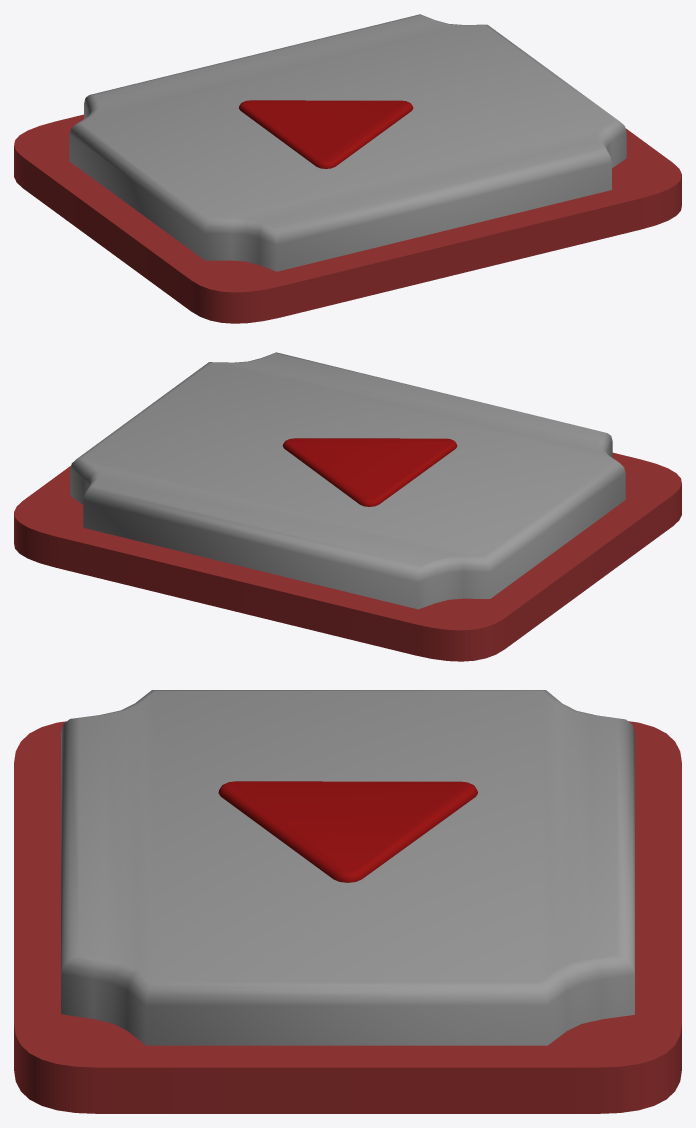
File: anniu.FBX
3 renders of one model, top to bottom at view 1: azimuth 30°, elevation 25°; view 2: azimuth 150°, elevation 25°; view 3: azimuth 270°, elevation 25°, orthographic. The views are drawn at different scales.
Visible parts, largest first — view 1: button_0; view 2: button_0; view 3: button_0.
Part boxes in pixels (left/top/right/bottom): button_0: left=14, top=14, right=681, bottom=323; button_0: left=14, top=352, right=681, bottom=661; button_0: left=14, top=690, right=681, bottom=1113.
Bounding box in the file's own units: 188 × 27.74 × 152.
